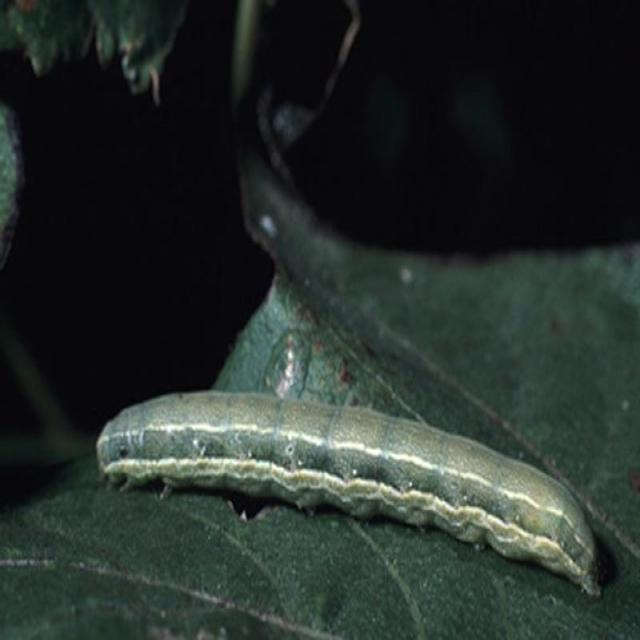BeetArmyWorm-Larva-: (85, 376, 609, 610)
